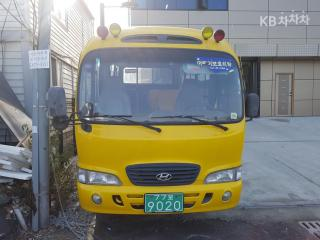0: (156, 201, 164, 211), (173, 201, 181, 211)
2: (164, 201, 173, 211)
7: (161, 193, 167, 201), (154, 194, 160, 201)
9: (147, 201, 155, 212)
plate: (140, 189, 189, 219)
보: (167, 194, 174, 201)
